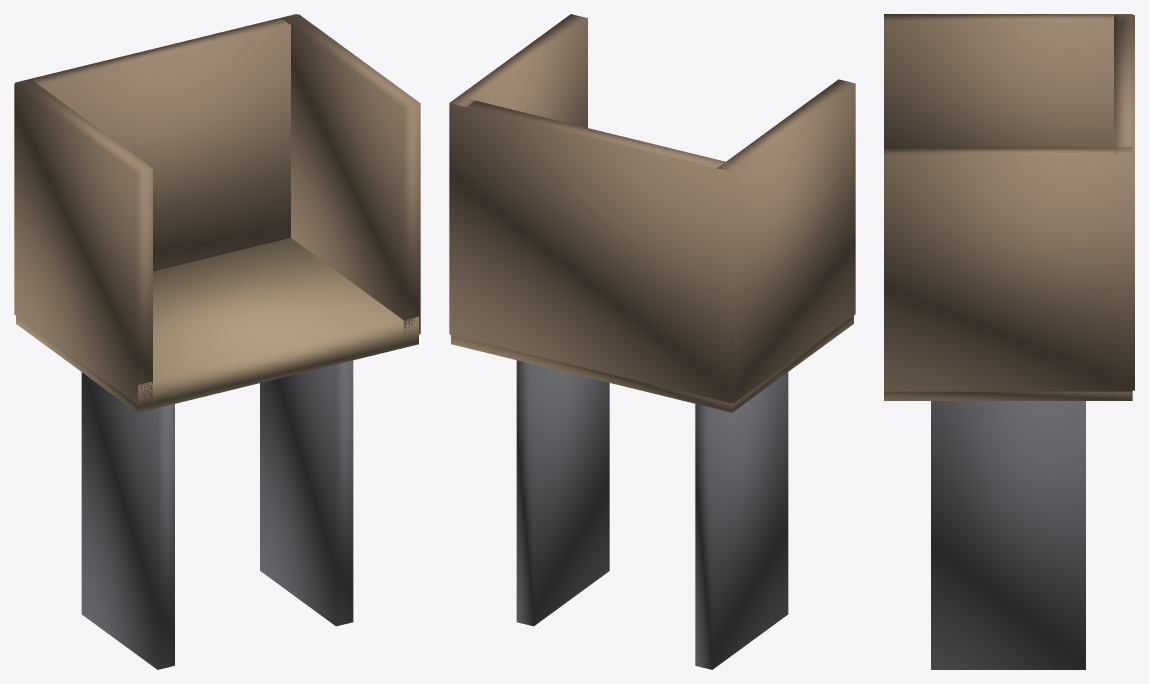
File: study_carrel__compact.glb
The picture shows the model from 3 angles, left to right: view 1: azimuth 30°, elevation 25°; view 2: azimuth 150°, elevation 25°; view 3: azimuth 270°, elevation 25°; orthographic projection. The views are drawn at different scales.
Parts seen in each view (by area): view 1: world; view 2: world; view 3: world.
Boxes of the visible parts, bbox=[...] form: world: bbox=[14, 14, 420, 669]; world: bbox=[449, 14, 855, 669]; world: bbox=[884, 14, 1134, 669].
Bounding box in the file's own units: 0.6972 × 1.23 × 0.5203.
